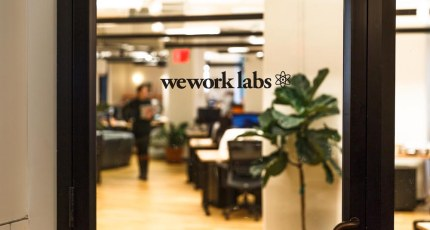wework: (158, 70, 235, 91)
